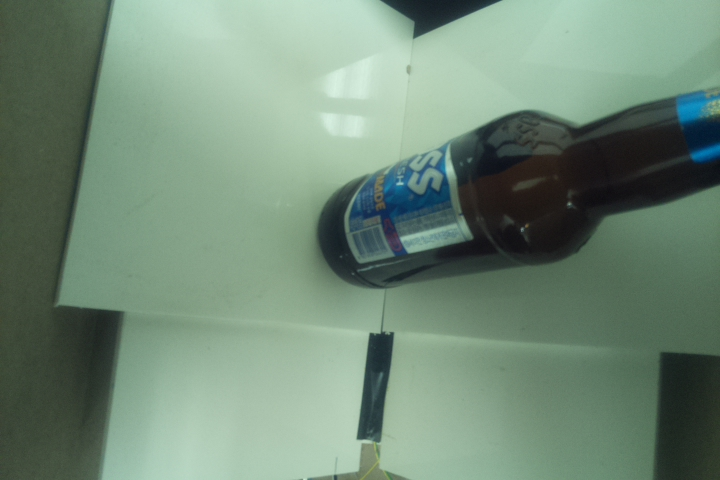makju: (314, 82, 720, 290)
